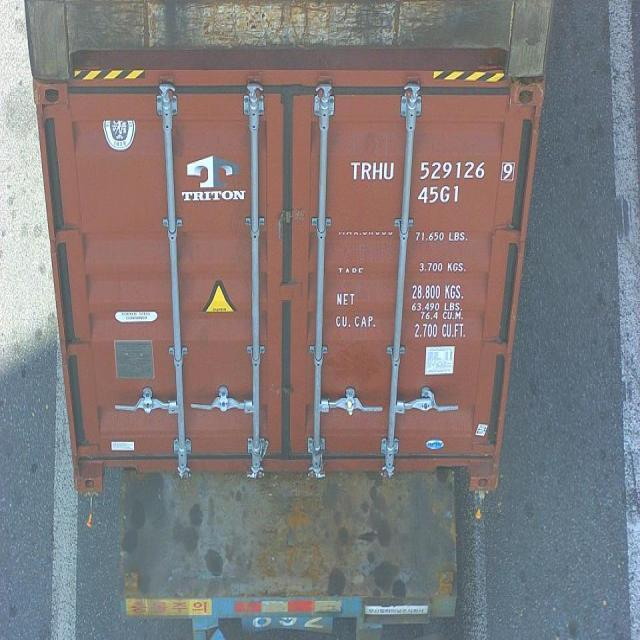ISO: (419, 184, 462, 203)
container_number: (346, 157, 514, 185)
